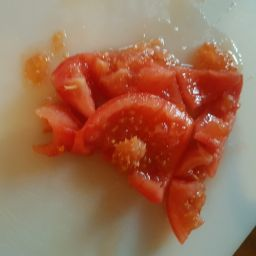Tomato: (19, 96, 191, 209), (22, 28, 219, 117), (179, 26, 251, 133), (176, 99, 224, 244)
